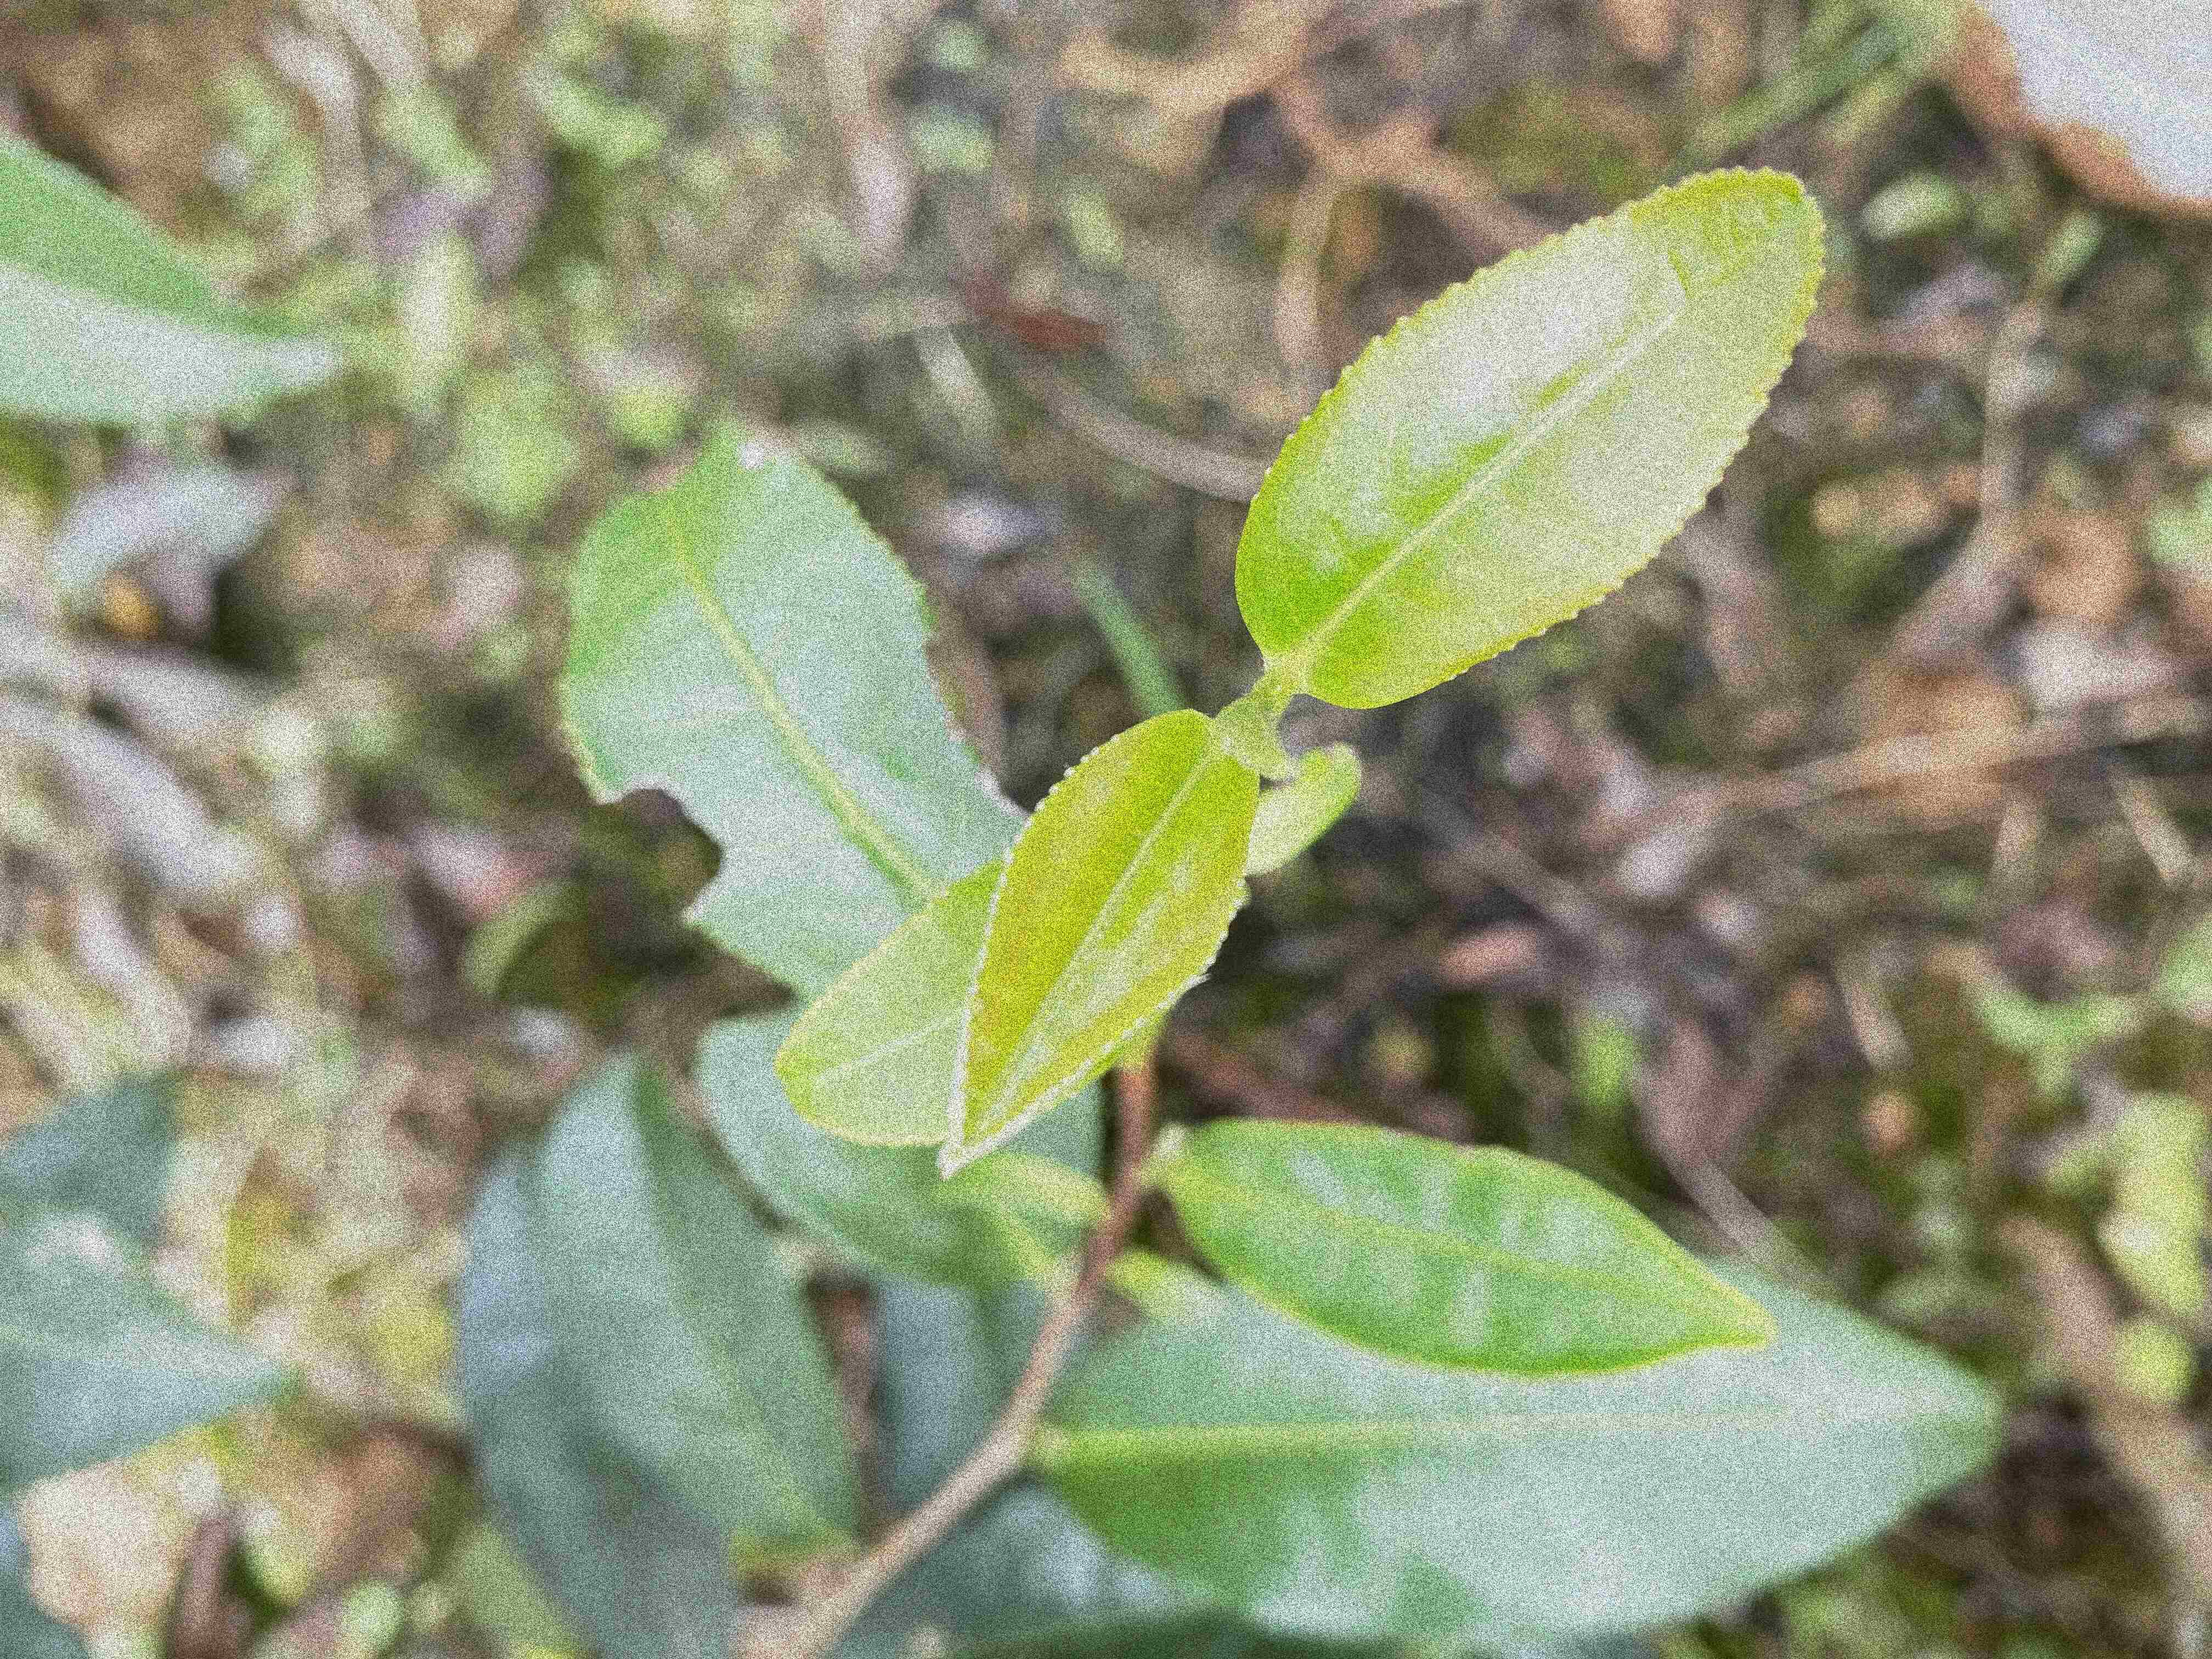chihuo_high: (554, 422, 1029, 1000)
healthy: (1235, 166, 1827, 709), (935, 704, 1264, 1178)
